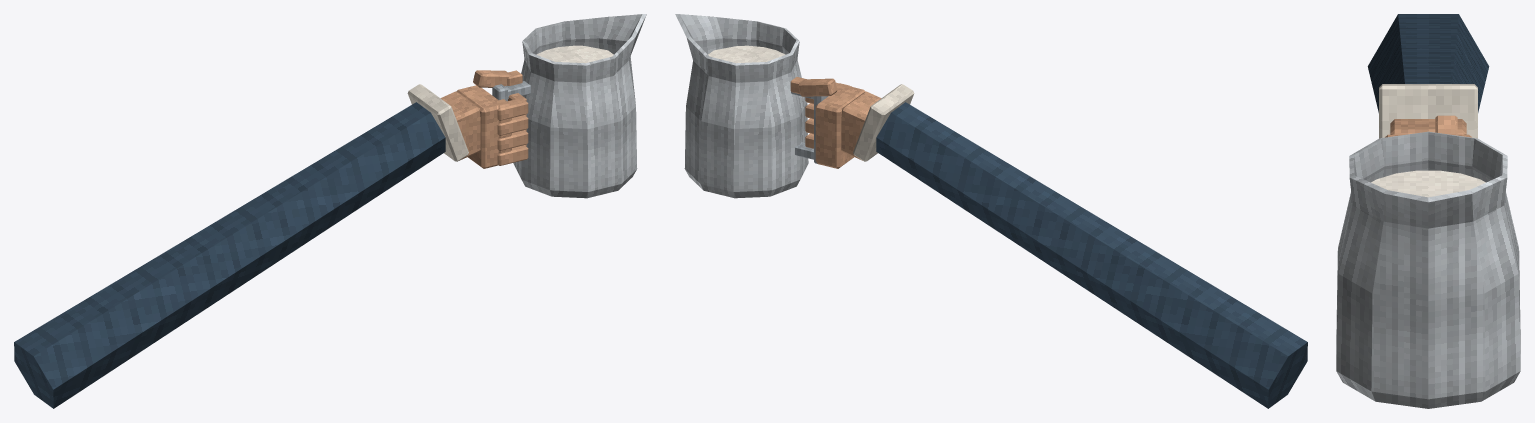
The model's file is pitcher.glb.
3 renders of one model, left to right at view 1: azimuth 30°, elevation 25°; view 2: azimuth 150°, elevation 25°; view 3: azimuth 270°, elevation 25°, orthographic. The views are drawn at different scales.
Visible parts, largest first — view 1: forearm_mesh, jug, palm, cuff_mesh, wrist_mesh, foam, thumb_mesh, finger_0_mesh; view 2: forearm_mesh, jug, palm, cuff_mesh, wrist_mesh, foam, thumb_mesh; view 3: jug, forearm_mesh, cuff_mesh, foam, wrist_mesh, thumb_mesh.
Boxes of the visible parts, <box> form: forearm_mesh: <box>14,102,445,408</box>; jug: <box>513,14,646,198</box>; palm: <box>456,85,511,168</box>; cuff_mesh: <box>407,84,468,161</box>; wrist_mesh: <box>440,91,480,160</box>; foam: <box>536,45,613,63</box>; thumb_mesh: <box>473,70,522,87</box>; finger_0_mesh: <box>497,93,528,120</box>; forearm_mesh: <box>876,102,1307,408</box>; jug: <box>675,14,808,198</box>; palm: <box>815,83,865,168</box>; cuff_mesh: <box>853,84,914,161</box>; wrist_mesh: <box>841,91,881,160</box>; foam: <box>708,45,785,63</box>; thumb_mesh: <box>790,77,837,96</box>; jug: <box>1336,131,1520,408</box>; forearm_mesh: <box>1367,14,1489,112</box>; cuff_mesh: <box>1379,84,1477,138</box>; foam: <box>1371,170,1485,197</box>; wrist_mesh: <box>1390,119,1466,134</box>; thumb_mesh: <box>1435,115,1457,135</box>.
Bounding box in the file's own units: 6.48 × 2.4 × 1.07.
Materials: 6 (6 with a texture image).
